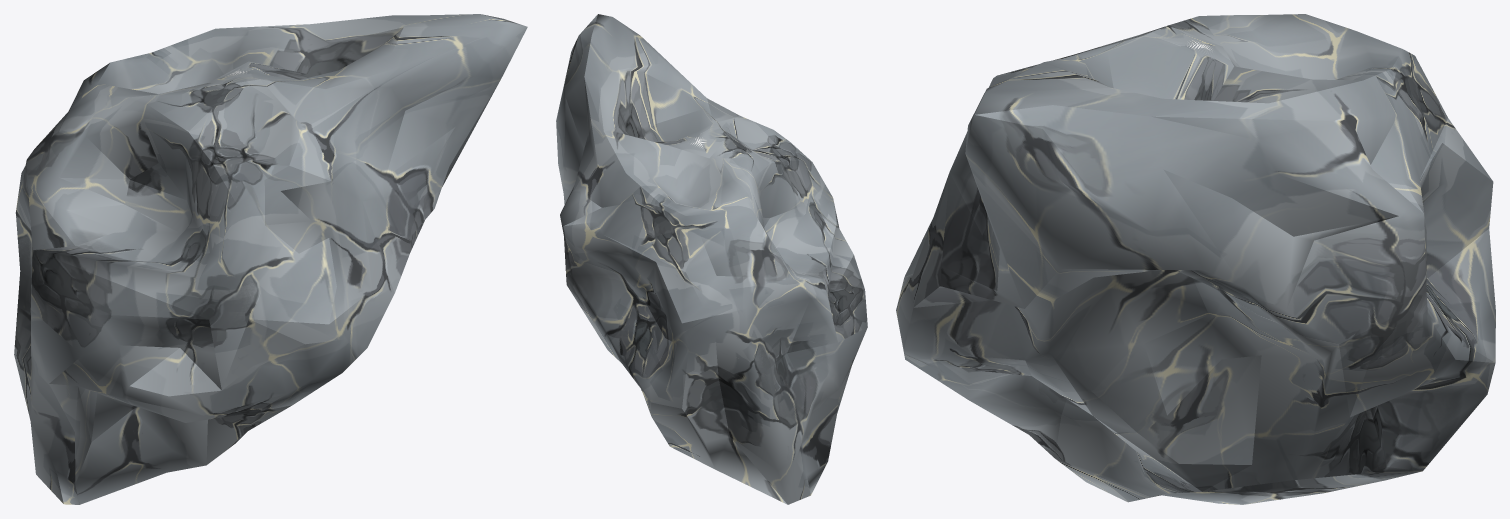
Rendered from asteroid_final2.fbx.
3 renders of one model, left to right at view 1: azimuth 30°, elevation 25°; view 2: azimuth 150°, elevation 25°; view 3: azimuth 270°, elevation 25°, orthographic. The views are drawn at different scales.
Parts seen in each view (by area): view 1: asteroid3; view 2: asteroid3; view 3: asteroid3.
Boxes of the visible parts, <box> form: asteroid3: <box>14,14,527,504</box>; asteroid3: <box>556,14,867,504</box>; asteroid3: <box>896,14,1495,504</box>.
Bounding box in the file's own units: 213 × 227 × 190.
